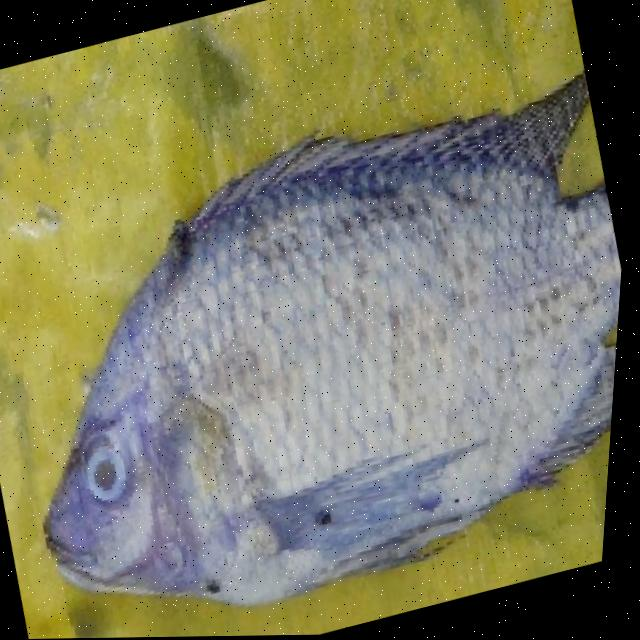Non-Fresh: (104, 95, 635, 631), (57, 419, 169, 541)
